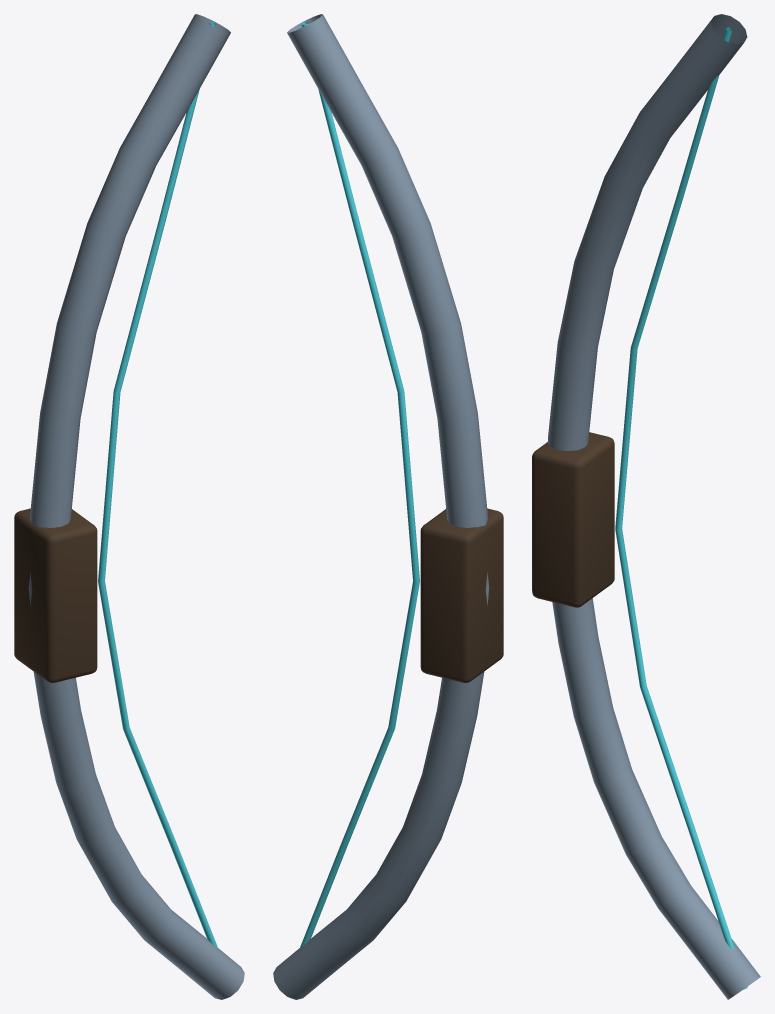
Rendered from bow_v5.glb.
3 renders of one model, left to right at view 1: azimuth 30°, elevation 25°; view 2: azimuth 150°, elevation 25°; view 3: azimuth 330°, elevation 25°, orthographic.
Visible parts, largest first — view 1: YUMI_BODY_PRIMARY, YUMI_GRIP_SECONDARY, YUMI_STRING_ACCENT; view 2: YUMI_BODY_PRIMARY, YUMI_GRIP_SECONDARY, YUMI_STRING_ACCENT; view 3: YUMI_BODY_PRIMARY, YUMI_GRIP_SECONDARY, YUMI_STRING_ACCENT.
Part boxes in pixels (bbox=[...]): YUMI_BODY_PRIMARY: bbox=[28, 14, 244, 999]; YUMI_GRIP_SECONDARY: bbox=[14, 508, 97, 682]; YUMI_STRING_ACCENT: bbox=[98, 22, 218, 948]; YUMI_BODY_PRIMARY: bbox=[273, 14, 489, 999]; YUMI_GRIP_SECONDARY: bbox=[420, 508, 503, 682]; YUMI_STRING_ACCENT: bbox=[299, 22, 419, 948]; YUMI_BODY_PRIMARY: bbox=[547, 14, 760, 999]; YUMI_GRIP_SECONDARY: bbox=[532, 432, 614, 607]; YUMI_STRING_ACCENT: bbox=[615, 27, 747, 989].
Bounding box in the file's own units: 0.8356 × 3.71 × 0.26.
